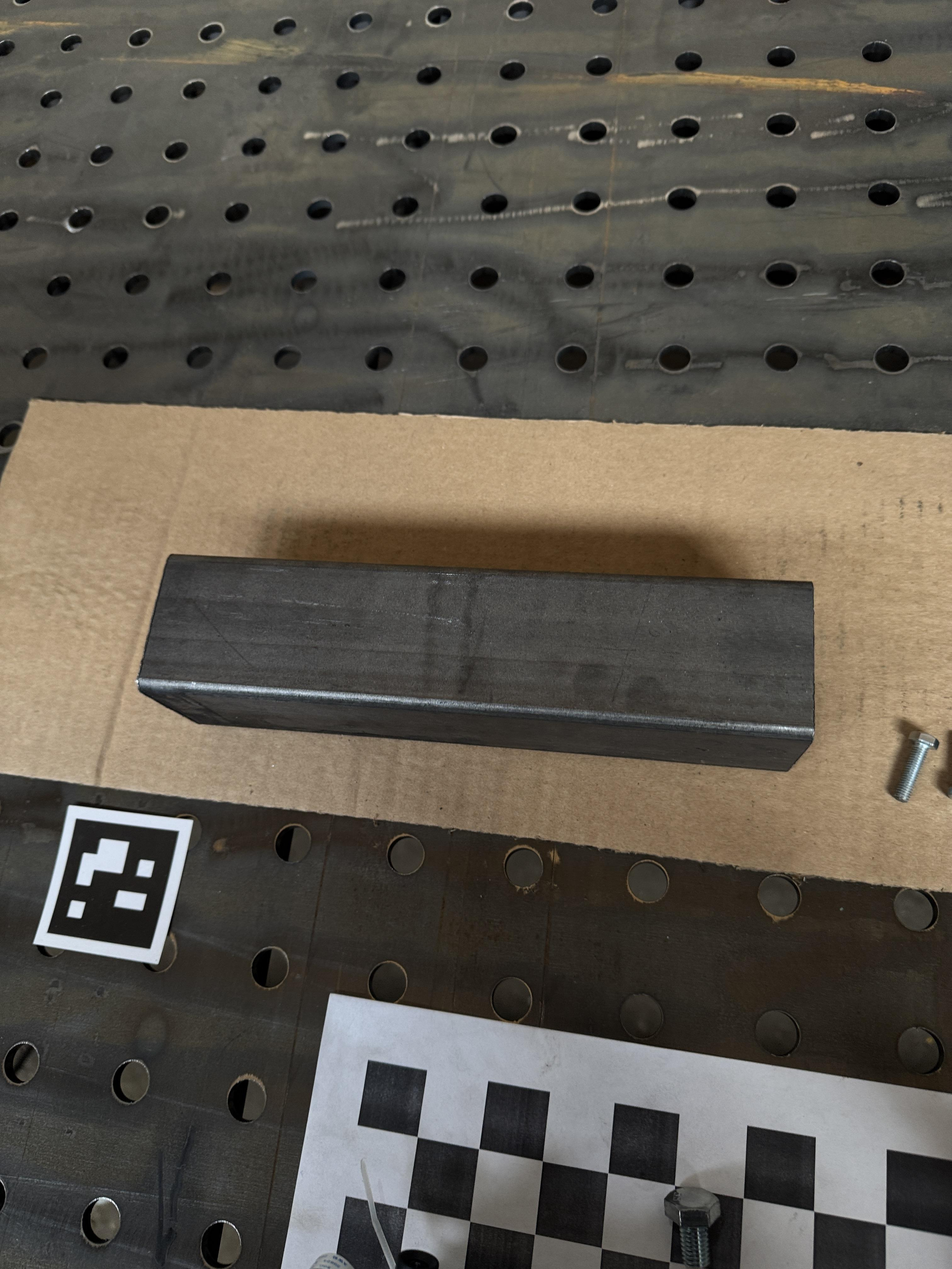detail: (137, 553, 815, 771)
